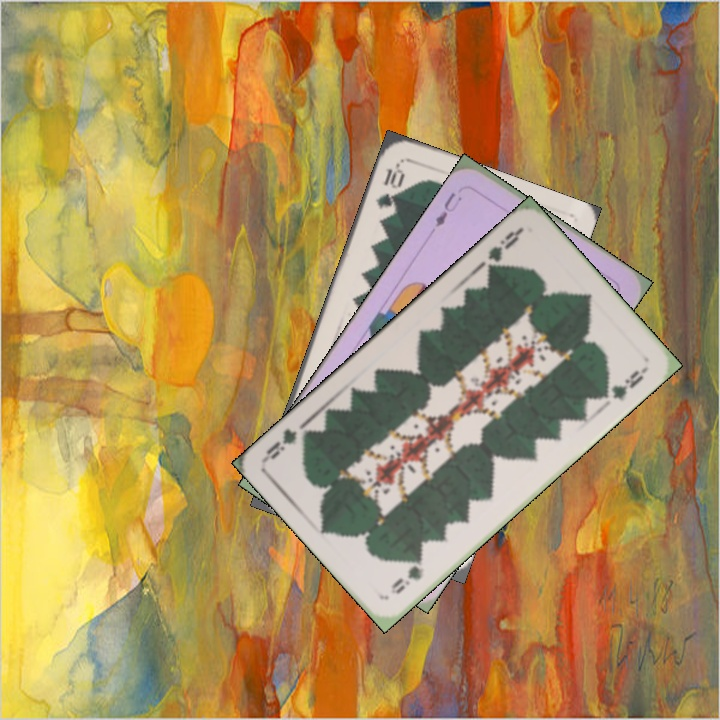EU: (431, 188, 465, 230)
G10: (371, 159, 407, 213)
G9: (483, 224, 525, 276), (386, 553, 427, 597)
